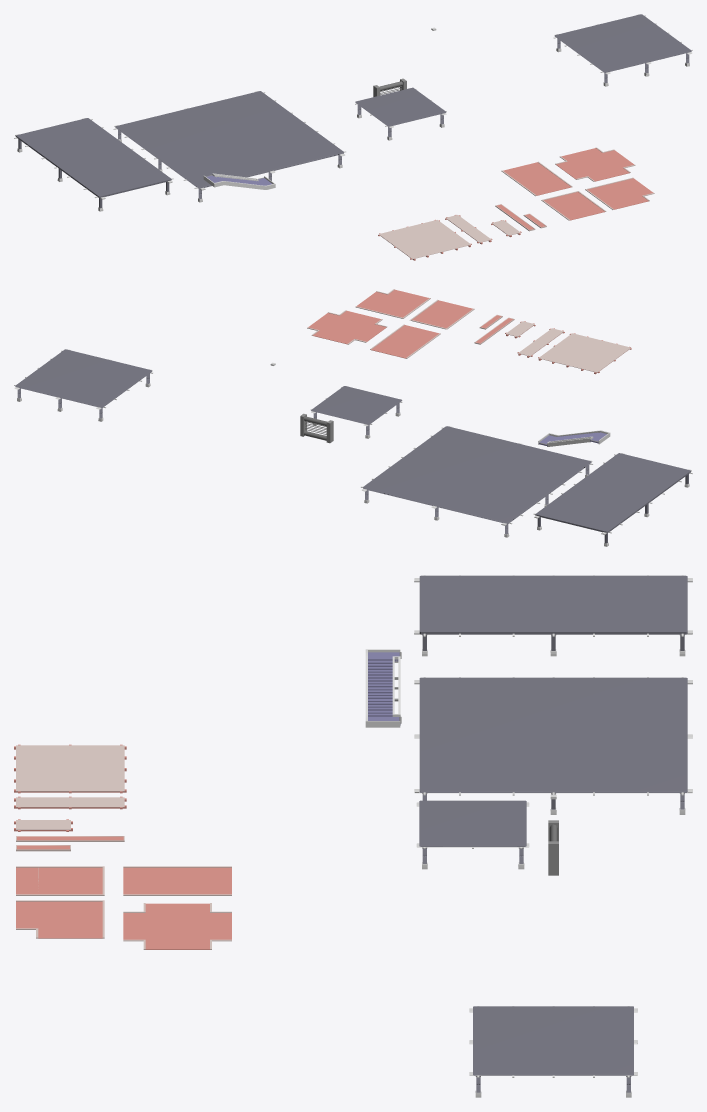
Rendered from Map.fbx.
The picture shows the model from 3 angles, top to bottom: view 1: azimuth 30°, elevation 25°; view 2: azimuth 150°, elevation 25°; view 3: azimuth 270°, elevation 25°; orthographic projection. The views are drawn at different scales.
Parts seen in each view (by area): view 1: Cube.013, Cube.009, Cube.012, Cube.011, Cube.001, Cube.004, Cube.005, Cube.003, Cube.006, Cube.015, Cube.002; view 2: Cube.013, Cube.009, Cube.012, Cube.011, Cube.001, Cube.004, Cube.003, Cube.005, Cube.006, Cube.015, Cube.016, Cube.002; view 3: Cube.013, Cube.009, Cube.012, Cube.011, Cube.001, Cube.004, Cube.005, Cube.003, Cube.015, Cube.006, Cube.002.
Part boxes in pixels (x1,y1,x2,y2): Cube.013: [113, 91, 345, 202]; Cube.009: [14, 118, 173, 211]; Cube.012: [554, 14, 692, 86]; Cube.011: [355, 87, 446, 140]; Cube.001: [378, 219, 471, 260]; Cube.004: [555, 147, 635, 181]; Cube.005: [585, 177, 654, 209]; Cube.003: [501, 161, 572, 196]; Cube.006: [541, 191, 606, 220]; Cube.015: [203, 173, 275, 189]; Cube.002: [445, 215, 492, 244]; Cube.013: [361, 426, 593, 537]; Cube.009: [533, 453, 692, 546]; Cube.012: [14, 349, 152, 421]; Cube.011: [310, 386, 402, 438]; Cube.001: [538, 333, 631, 374]; Cube.004: [307, 310, 387, 344]; Cube.003: [370, 324, 440, 358]; Cube.005: [355, 289, 430, 318]; Cube.006: [409, 299, 474, 329]; Cube.015: [538, 430, 610, 446]; Cube.016: [300, 413, 333, 443]; Cube.002: [517, 328, 564, 357]; Cube.013: [414, 677, 692, 814]; Cube.009: [414, 575, 692, 656]; Cube.012: [469, 1006, 637, 1097]; Cube.011: [416, 800, 529, 869]; Cube.001: [14, 744, 126, 793]; Cube.004: [123, 903, 231, 949]; Cube.005: [16, 900, 104, 938]; Cube.003: [123, 866, 231, 895]; Cube.015: [365, 649, 401, 727]; Cube.006: [16, 866, 104, 895]; Cube.002: [14, 796, 126, 809].
Size of the model in its own units: 4217 by 503 by 2529.
